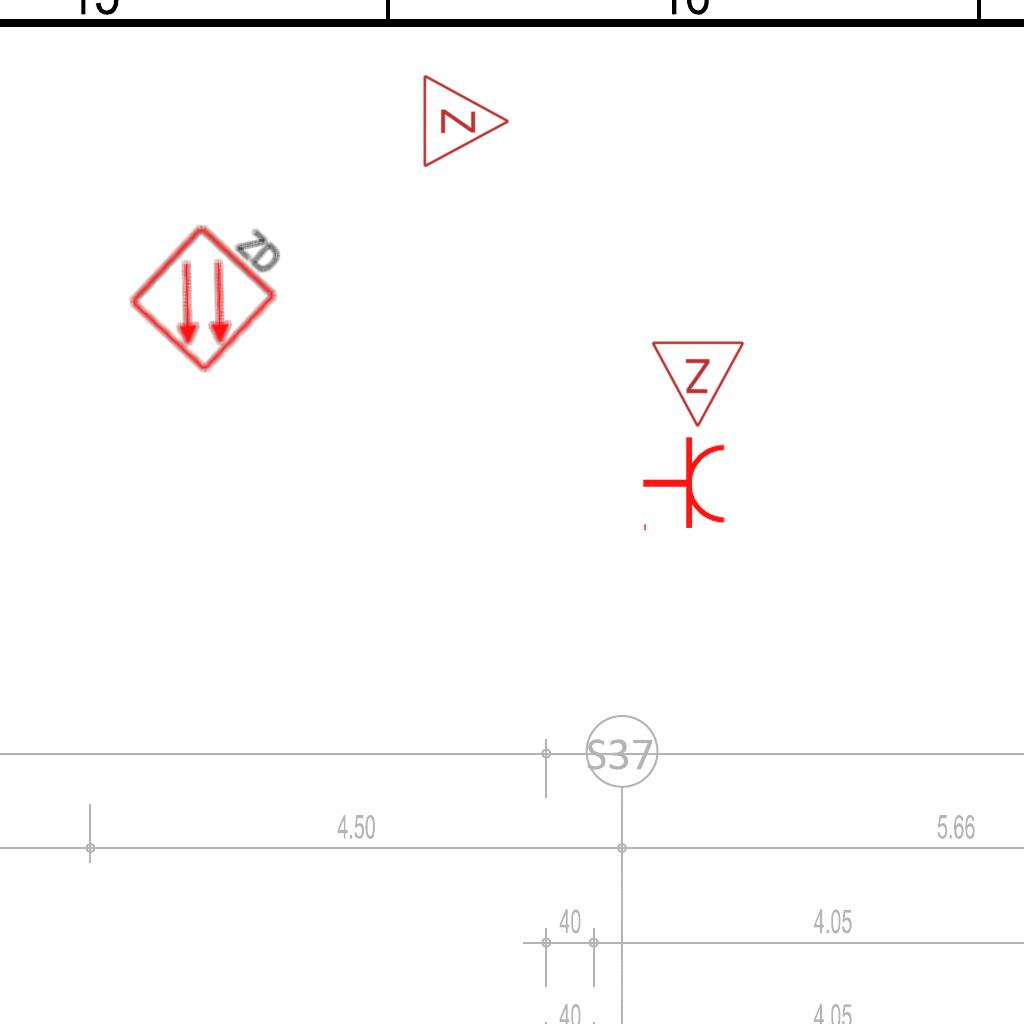Schukosteckdose_einfach: (641, 435, 728, 535)
ZD_Melder_in_Zwischendecke_mit_Revisionsoeffnung_mind_40_x_40_cm: (122, 190, 308, 377)
Zimmersignalleuchte: (650, 334, 748, 434), (416, 71, 516, 169)
